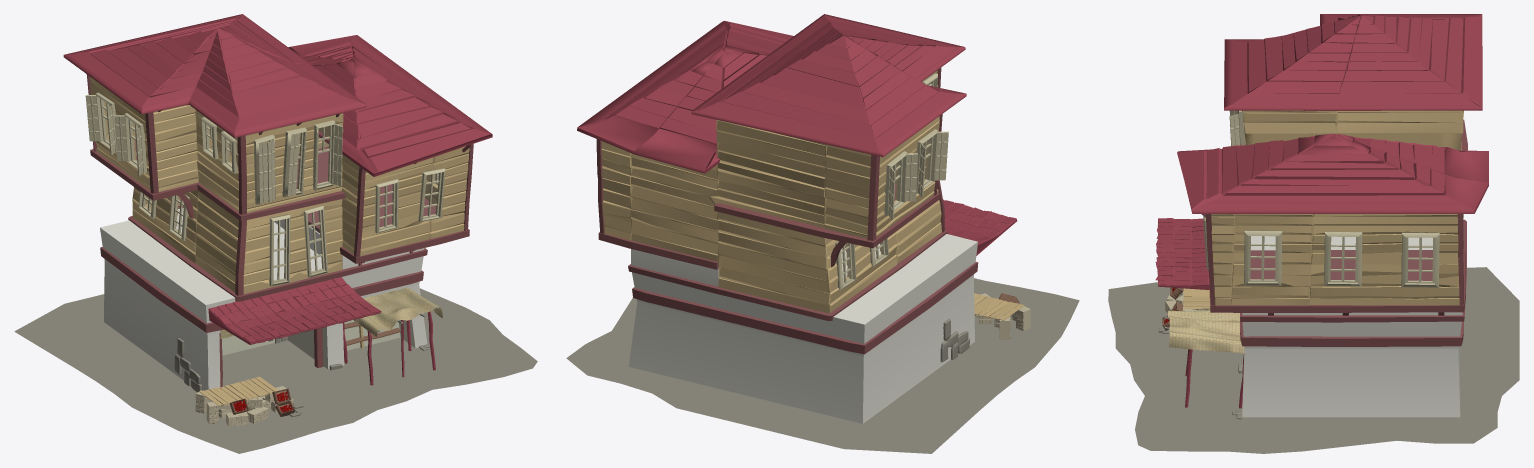
File: asfghgge.fbx.fbx
3 views of the same model, side by side, from view 1: azimuth 30°, elevation 25°; view 2: azimuth 150°, elevation 25°; view 3: azimuth 270°, elevation 25° (orthographic). The views are drawn at different scales.
Visible parts, largest first — view 1: pPlane4, polySurface105, polySurface103, polySurface115, polySurface106, polySurface96, polySurface85, polySurface79, polySurface89, pPlane3, polySurface108, pPipe50 (+15 smaller); view 2: polySurface105, polySurface115, pPlane4, polySurface103, polySurface106, polySurface108, polySurface89, polySurface79, polySurface96, pPipe40, pPipe39, polySurface85 (+4 smaller); view 3: pPlane4, polySurface105, polySurface103, polySurface106, polySurface115, polySurface85, polySurface96, pPlane3, polySurface108, polySurface89, pPipe43, pPipe41 (+5 smaller).
Boxes of the visible parts, bbox=[...] form: pPlane4: bbox=[14, 288, 537, 453]; polySurface105: bbox=[90, 77, 469, 293]; polySurface103: bbox=[63, 14, 366, 137]; polySurface115: bbox=[100, 208, 427, 397]; polySurface106: bbox=[288, 35, 492, 176]; polySurface96: bbox=[208, 277, 381, 344]; polySurface85: bbox=[267, 146, 469, 263]; polySurface79: bbox=[90, 140, 345, 221]; polySurface89: bbox=[128, 206, 427, 301]; pPlane3: bbox=[353, 287, 442, 336]; polySurface108: bbox=[100, 247, 423, 332]; pPipe50: bbox=[313, 120, 342, 192]; polySurface105: bbox=[601, 70, 941, 313]; polySurface115: bbox=[628, 234, 977, 423]; pPlane4: bbox=[566, 278, 1079, 453]; polySurface103: bbox=[691, 14, 966, 156]; polySurface106: bbox=[577, 20, 793, 173]; polySurface108: bbox=[632, 262, 978, 354]; polySurface89: bbox=[628, 229, 947, 320]; polySurface79: bbox=[714, 183, 940, 248]; polySurface96: bbox=[943, 199, 1017, 255]; pPipe40: bbox=[884, 151, 917, 219]; pPipe39: bbox=[916, 129, 948, 197]; polySurface85: bbox=[598, 232, 718, 269]; pPlane4: bbox=[1108, 267, 1519, 453]; polySurface105: bbox=[1211, 110, 1463, 305]; polySurface103: bbox=[1224, 14, 1482, 110]; polySurface106: bbox=[1177, 133, 1488, 213]; polySurface115: bbox=[1242, 236, 1462, 417]; polySurface85: bbox=[1209, 250, 1465, 312]; polySurface96: bbox=[1155, 218, 1209, 289]; pPlane3: bbox=[1168, 310, 1244, 353]; polySurface108: bbox=[1240, 318, 1463, 346]; polySurface89: bbox=[1240, 219, 1466, 322]; pPipe43: bbox=[1244, 230, 1282, 285]; pPipe41: bbox=[1401, 232, 1439, 287].
Size of the model in its own units: 95.05 by 78.01 by 88.41.
